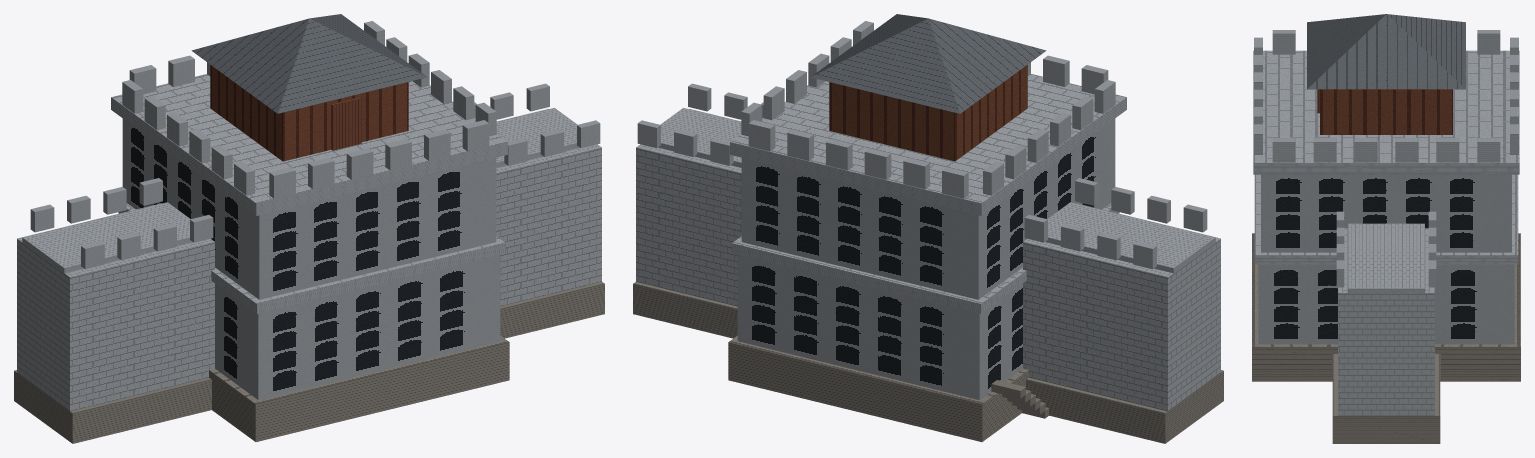
File: landmark_great_wall.glb
3 views of the same model, side by side, from view 1: azimuth 30°, elevation 25°; view 2: azimuth 150°, elevation 25°; view 3: azimuth 270°, elevation 25° (orthographic). The views are drawn at different scales.
Parts seen in each view (by area): view 1: Landmark_Great_Wall; view 2: Landmark_Great_Wall; view 3: Landmark_Great_Wall.
Boxes of the visible parts, left/top/right/bottom form: Landmark_Great_Wall: left=14, top=14, right=604, bottom=443; Landmark_Great_Wall: left=633, top=14, right=1223, bottom=443; Landmark_Great_Wall: left=1252, top=14, right=1520, bottom=443.
Size of the model in its own units: 22 by 13.4 by 10.5.
Materials: 1 (1 with a texture image).
